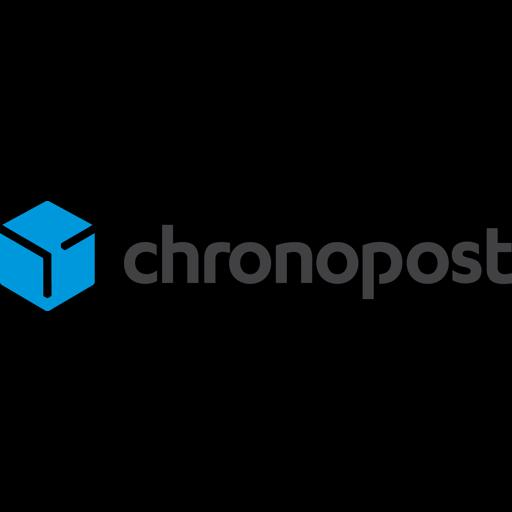Chronopost International: (0, 201, 512, 311)
